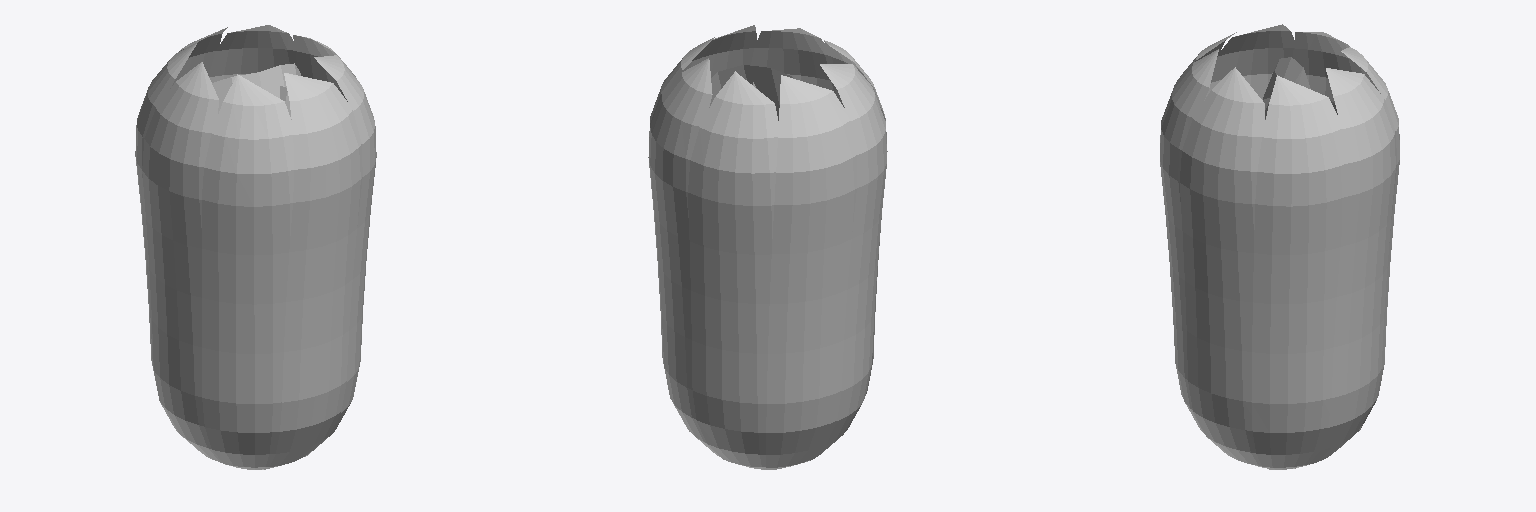
Rendered from FlowerTopModel_03_seq_0014.obj.
3 views of the same model, side by side, from view 1: azimuth 30°, elevation 25°; view 2: azimuth 150°, elevation 25°; view 3: azimuth 270°, elevation 25° (orthographic).
Parts seen in each view (by area): view 1: FlowerTopModel_03; view 2: FlowerTopModel_03; view 3: FlowerTopModel_03.
Part boxes in pixels (left/top/right/bottom): FlowerTopModel_03: left=135, top=25, right=376, bottom=469; FlowerTopModel_03: left=648, top=25, right=887, bottom=469; FlowerTopModel_03: left=1160, top=24, right=1399, bottom=469.
Size of the model in its own units: 187 by 354 by 187.